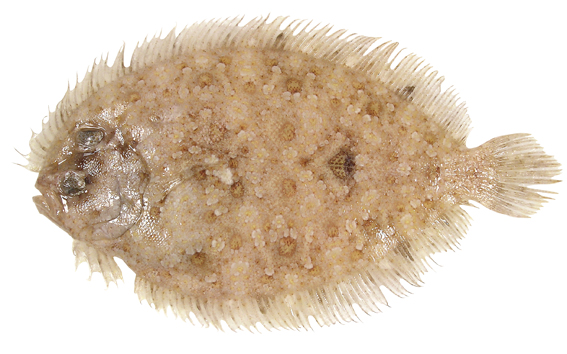fish: (16, 16, 563, 332)
